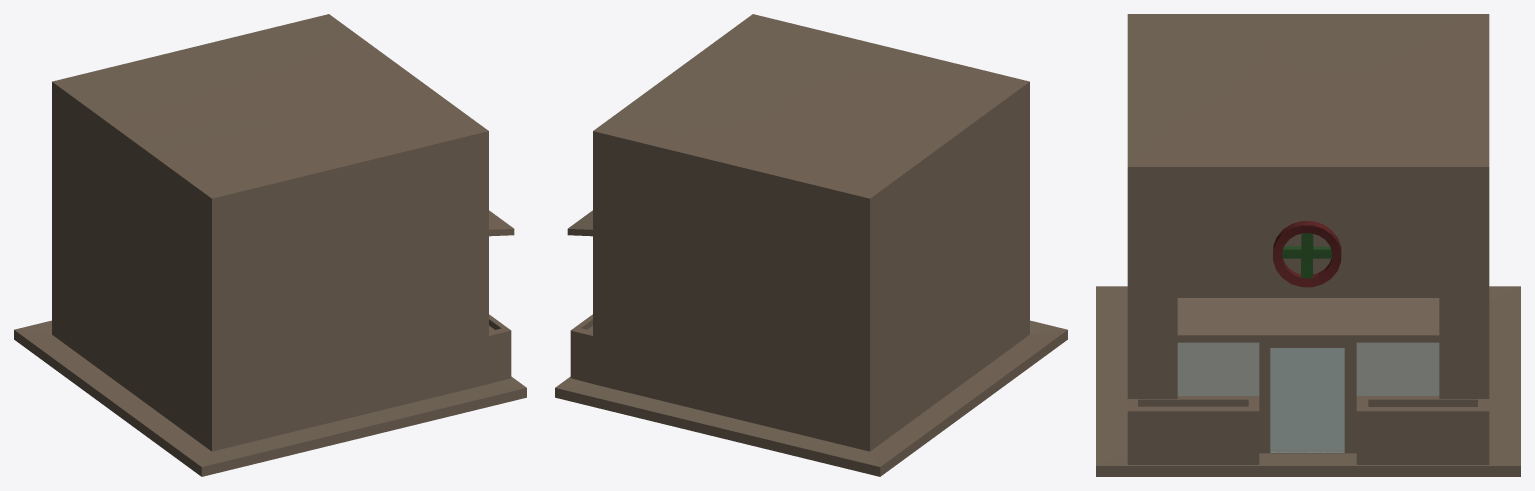
Rendered from Pharmacy.fbx.
The picture shows the model from 3 angles, left to right: view 1: azimuth 30°, elevation 25°; view 2: azimuth 150°, elevation 25°; view 3: azimuth 270°, elevation 25°; orthographic projection. The views are drawn at different scales.
Visible parts, largest first — view 1: polySurface4, polySurface1; view 2: polySurface4, polySurface1; view 3: polySurface4, polySurface1, polySurface3.
Part boxes in pixels (left/top/right/bottom): polySurface4: left=14, top=82, right=526, bottom=476; polySurface1: left=52, top=14, right=488, bottom=198; polySurface4: left=555, top=82, right=1067, bottom=476; polySurface1: left=593, top=14, right=1029, bottom=198; polySurface4: left=1096, top=167, right=1520, bottom=476; polySurface1: left=1127, top=14, right=1489, bottom=166; polySurface3: left=1270, top=348, right=1344, bottom=452.
Bounding box in the file's own units: 21.4 × 15.38 × 19.95.
